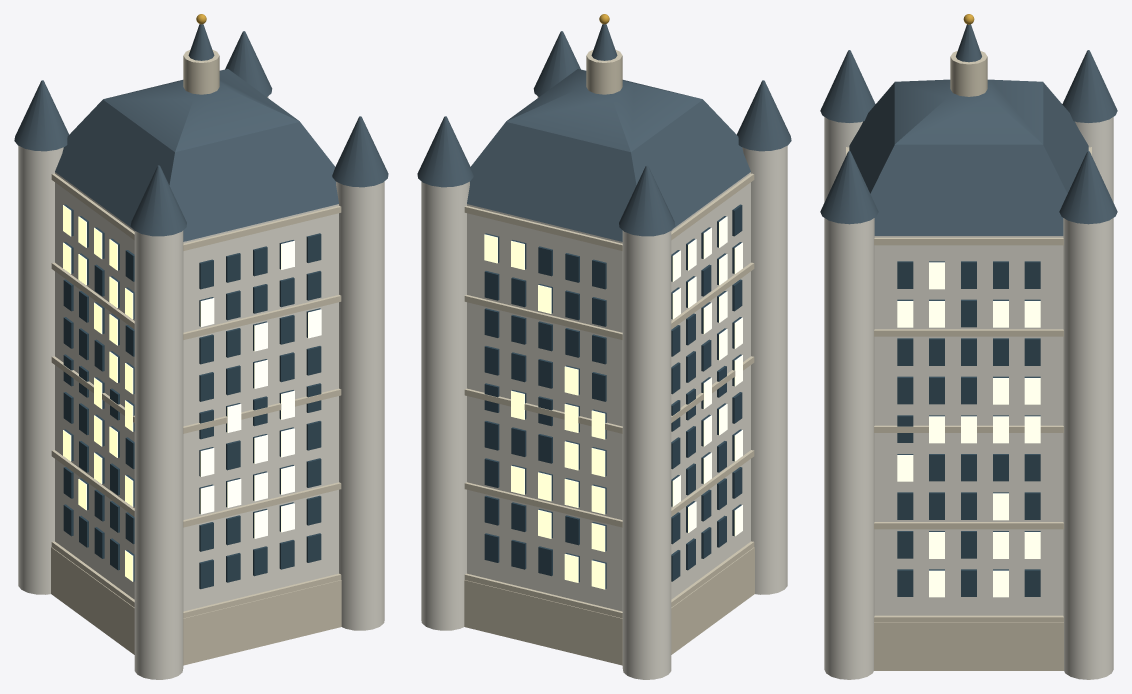
Rendered from whitehouse.glb.
3 views of the same model, side by side, from view 1: azimuth 30°, elevation 25°; view 2: azimuth 150°, elevation 25°; view 3: azimuth 270°, elevation 25° (orthographic). The views are drawn at different scales.
Parts seen in each view (by area): view 1: romp, hoek-1-1, kap, hoek1-1, hoek-11, ramen-1, plint, zij-1, kapdak, ramen-1-licht, zij-1-licht, hoekkap-1-1 (+10 smaller); view 2: romp, hoek-11, kap, hoek11, hoek-1-1, ramen1, plint, zij-1, kapdak, ramen1-licht, zij-1-licht, hoekkap-11 (+10 smaller); view 3: romp, hoek1-1, hoek11, kap, zij1, plint, kapdak, zij1-licht, hoekkap1-1, hoekkap11, hoekkap-1-1, hoekkap-11 (+9 smaller).
Boxes of the visible parts, x1,y1,x2,y2 form: romp: (55, 172, 338, 611); hoek-1-1: (134, 230, 183, 679); kap: (55, 100, 338, 241); hoek1-1: (336, 181, 384, 630); hoek-11: (18, 145, 63, 594); ramen-1: (199, 233, 321, 589); plint: (51, 547, 341, 665); zij-1: (63, 204, 134, 581); kapdak: (103, 69, 299, 152); ramen-1-licht: (200, 241, 321, 538); zij-1-licht: (63, 205, 133, 581); hoekkap-1-1: (130, 165, 186, 236); romp: (467, 172, 750, 611); hoek-11: (622, 230, 671, 679); kap: (467, 100, 750, 241); hoek11: (421, 181, 469, 630); hoek-1-1: (742, 145, 787, 594); ramen1: (484, 233, 606, 588); plint: (464, 547, 754, 665); zij-1: (671, 204, 742, 581); kapdak: (506, 69, 702, 152); ramen1-licht: (484, 234, 605, 589); zij-1-licht: (672, 216, 742, 536); hoekkap-11: (619, 165, 675, 236); romp: (874, 236, 1063, 615); hoek1-1: (824, 218, 874, 679); hoek11: (1063, 218, 1113, 679); kap: (849, 82, 1088, 235); zij1: (897, 261, 1040, 596); plint: (874, 622, 1063, 670); kapdak: (894, 79, 1043, 144); zij1-licht: (897, 262, 1040, 597); hoekkap1-1: (820, 151, 878, 224); hoekkap11: (1059, 151, 1117, 224); hoekkap-1-1: (820, 50, 875, 122); hoekkap-11: (1062, 50, 1117, 122).
Size of the model in its own units: 22.4 by 50.2 by 22.4.
